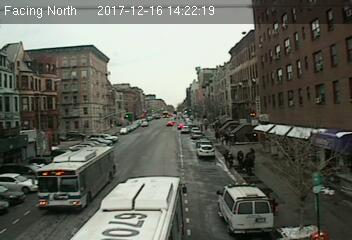bus: (37, 144, 119, 212)
car: (197, 144, 215, 157), (180, 125, 190, 133)
pedestrian: (227, 151, 235, 169), (236, 149, 243, 165)
police: (216, 181, 275, 235)
